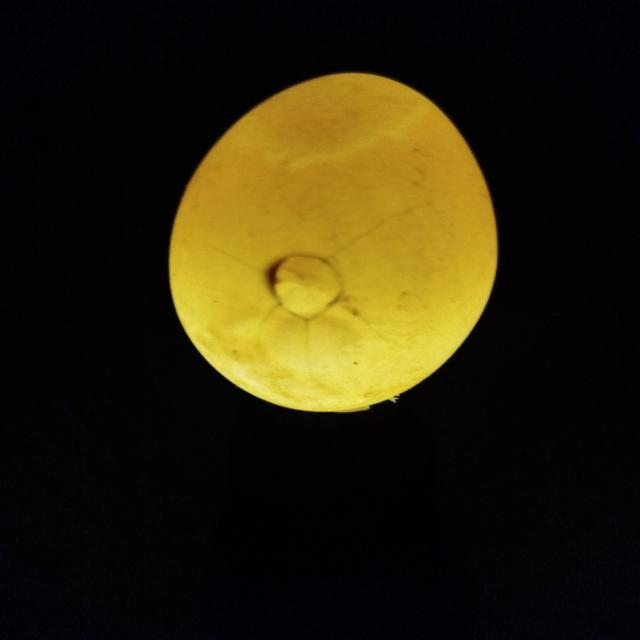Camara de Ar: (216, 73, 433, 165)
Rachadura: (216, 221, 383, 363)
